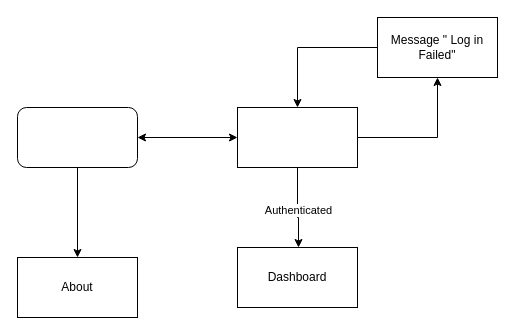
Image size: 515x335. Some labels were removed from this diagram. The shapes that lost their labels are listed below. From the top down, each one's centre as x and y in pixels, then its label:
the point at 77,137: Home
the point at 297,137: Logon
